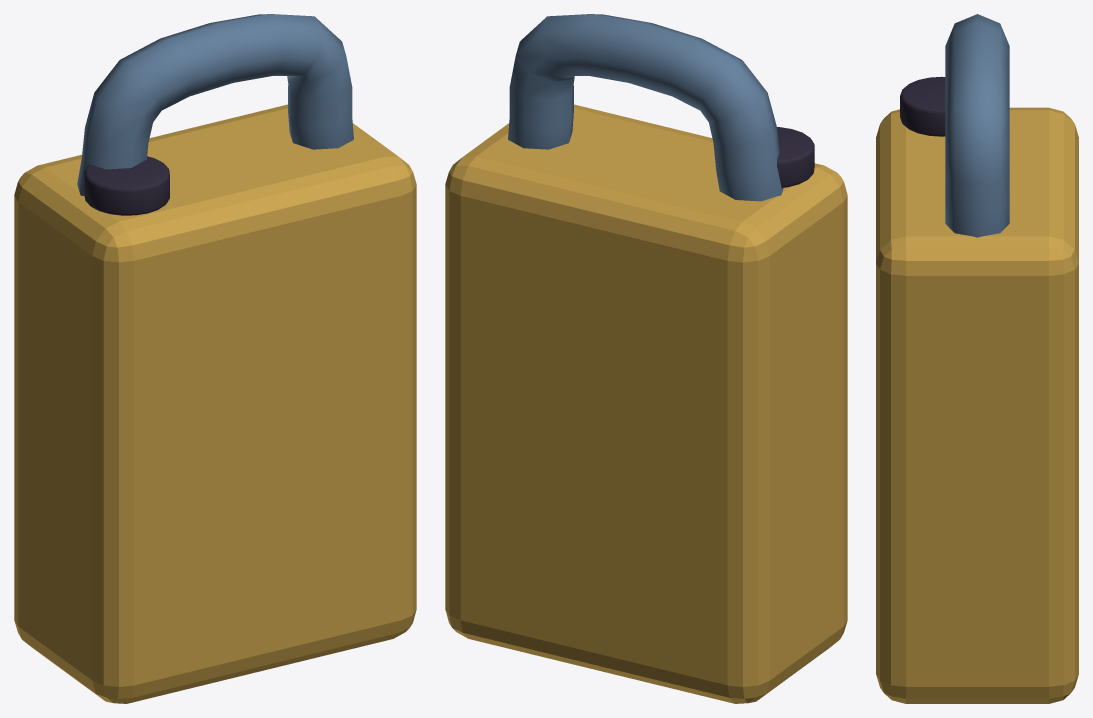
Rendered from jerrycan_yellow.glb.
3 renders of one model, left to right at view 1: azimuth 30°, elevation 25°; view 2: azimuth 150°, elevation 25°; view 3: azimuth 270°, elevation 25°, orthographic. The views are drawn at different scales.
Parts seen in each view (by area): view 1: Body, Handle, Cap; view 2: Body, Handle, Cap; view 3: Body, Handle, Cap.
Part boxes in pixels (box(x1,y1,x2,y2)): Body: box(14, 104, 416, 703); Handle: box(77, 14, 353, 196); Cap: box(84, 156, 169, 215); Body: box(445, 104, 847, 703); Handle: box(508, 14, 783, 201); Cap: box(777, 127, 814, 187); Body: box(876, 107, 1078, 703); Handle: box(945, 14, 1009, 237); Cap: box(900, 76, 945, 136).
Bounding box in the file's own units: 0.3 × 0.5532 × 0.17.
